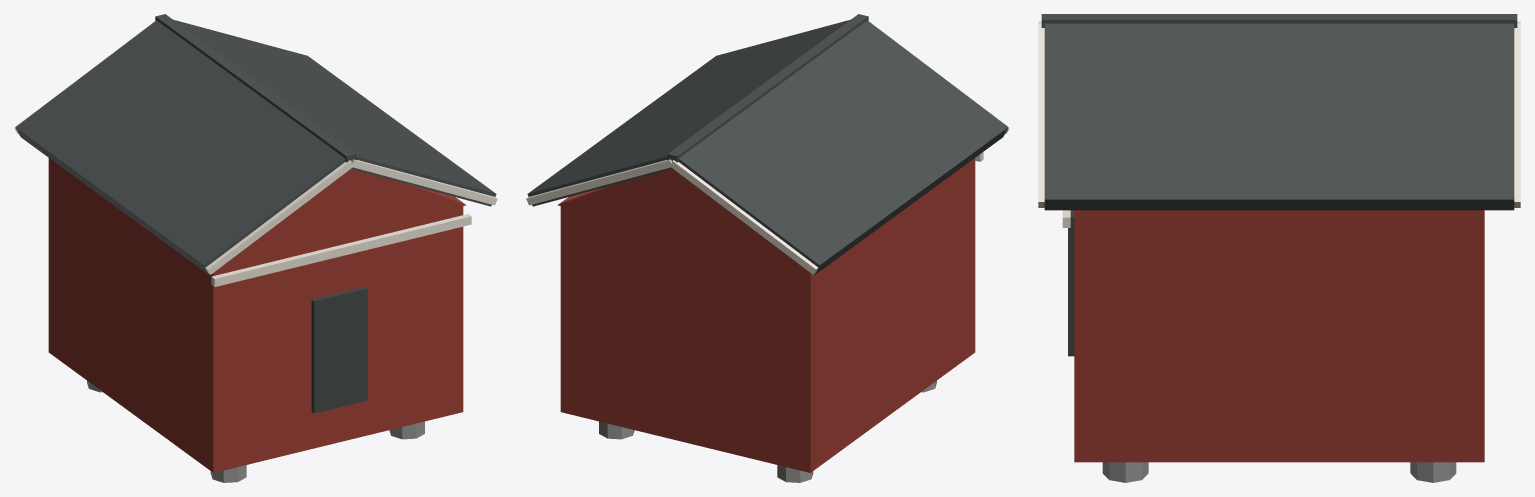
File: norway-stabbur_lod0.glb
The picture shows the model from 3 angles, left to right: view 1: azimuth 30°, elevation 25°; view 2: azimuth 150°, elevation 25°; view 3: azimuth 270°, elevation 25°; orthographic projection. The views are drawn at different scales.
Parts seen in each view (by area): view 1: RF_Stabbur_Body, RF_Stabbur_RoofA, RF_Stabbur_RoofB, RF_Stabbur_Gables, RF_Stabbur_Door, RF_Stabbur_Trim, RF_Stabbur_RidgeCap, RF_Stabbur_VergeLeftFront, RF_Stabbur_VergeRightFront; view 2: RF_Stabbur_Body, RF_Stabbur_RoofA, RF_Stabbur_RoofB, RF_Stabbur_Gables, RF_Stabbur_RidgeCap, RF_Stabbur_VergeLeftRear, RF_Stabbur_VergeRightRear; view 3: RF_Stabbur_Body, RF_Stabbur_RoofB, RF_Stabbur_RidgeCap, RF_Stabbur_VergeRightFront, RF_Stabbur_VergeRightRear, RF_Stabbur_Door, RF_Stabbur_Post.002, RF_Stabbur_Post.003.
Boxes of the visible parts, x1,y1,x2,y2 form: RF_Stabbur_Body: (48,158,463,472); RF_Stabbur_RoofA: (15,20,345,275); RF_Stabbur_RoofB: (173,19,496,206); RF_Stabbur_Gables: (225,169,466,263); RF_Stabbur_Door: (311,286,367,413); RF_Stabbur_Trim: (211,214,471,286); RF_Stabbur_RidgeCap: (155,14,356,162); RF_Stabbur_VergeLeftFront: (205,160,353,274); RF_Stabbur_VergeRightFront: (352,159,497,205); RF_Stabbur_Body: (560,158,975,472); RF_Stabbur_RoofA: (678,20,1008,275); RF_Stabbur_RoofB: (527,19,850,206); RF_Stabbur_Gables: (557,169,798,263); RF_Stabbur_RidgeCap: (667,14,868,162); RF_Stabbur_VergeLeftRear: (670,160,818,274); RF_Stabbur_VergeRightRear: (526,159,671,205); RF_Stabbur_Body: (1074,210,1484,462); RF_Stabbur_RoofB: (1044,23,1514,210); RF_Stabbur_RidgeCap: (1041,14,1517,27); RF_Stabbur_VergeRightFront: (1038,23,1045,207); RF_Stabbur_VergeRightRear: (1514,23,1520,207); RF_Stabbur_Door: (1068,210,1074,356); RF_Stabbur_Post.002: (1102,462,1148,482); RF_Stabbur_Post.003: (1410,462,1456,482).
Bounding box in the file's own units: 8.19 × 8.65 × 9.4.
